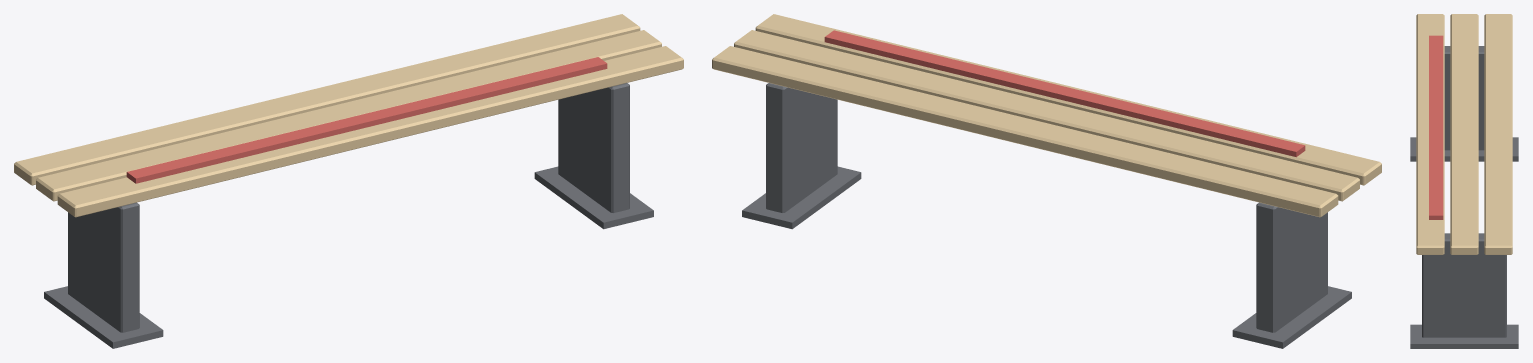
Rendered from community-sports-hall-and-changing-rooms-changing-benc-8ba8e8ea__35104.glb.
3 views of the same model, side by side, from view 1: azimuth 30°, elevation 25°; view 2: azimuth 150°, elevation 25°; view 3: azimuth 270°, elevation 25° (orthographic). The views are drawn at different scales.
Parts seen in each view (by area): view 1: changing-bench-run-plain; view 2: changing-bench-run-plain; view 3: changing-bench-run-plain.
Part boxes in pixels (box(x1,y1,x2,y2)): changing-bench-run-plain: box(14, 14, 683, 348); changing-bench-run-plain: box(712, 14, 1381, 348); changing-bench-run-plain: box(1410, 14, 1518, 348).
Size of the model in its own units: 1.94 by 0.466 by 0.38.
